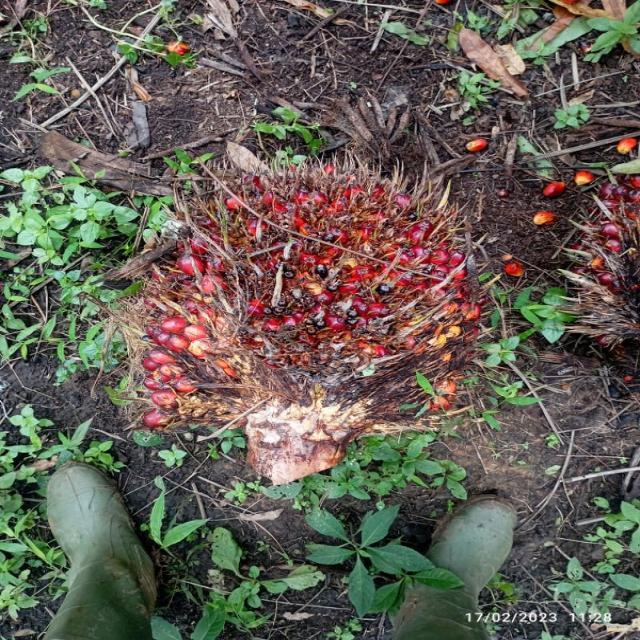fraksi 4: (96, 141, 547, 483)
